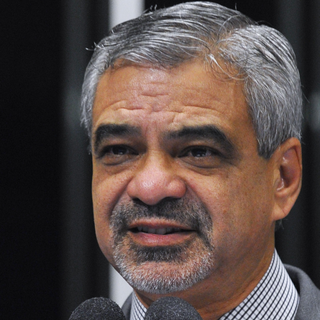eye: (174, 141, 227, 165), (99, 139, 143, 164)
